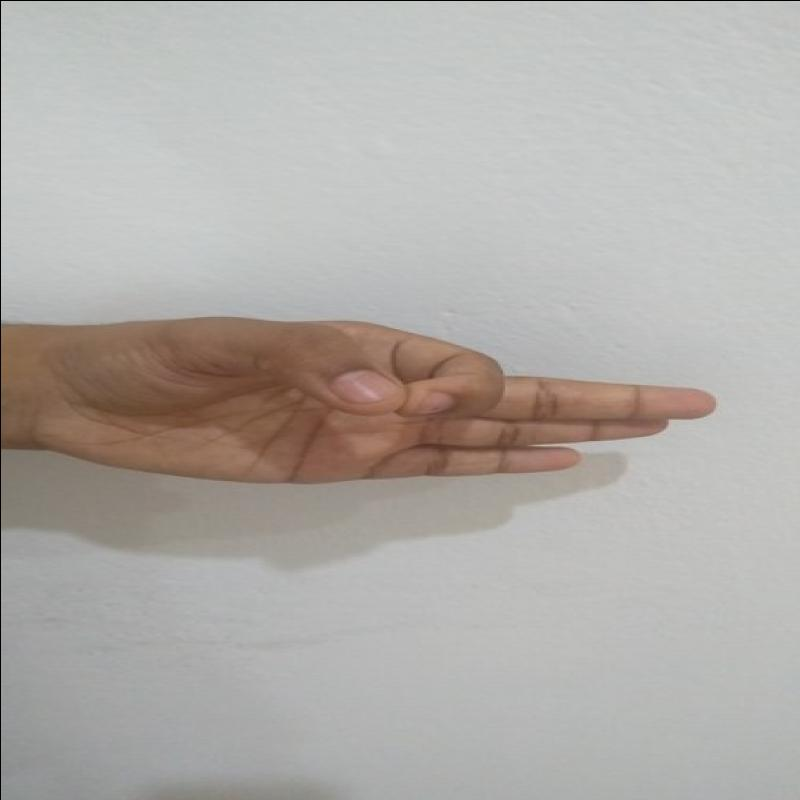Mudraakhyam: (53, 291, 728, 502)
